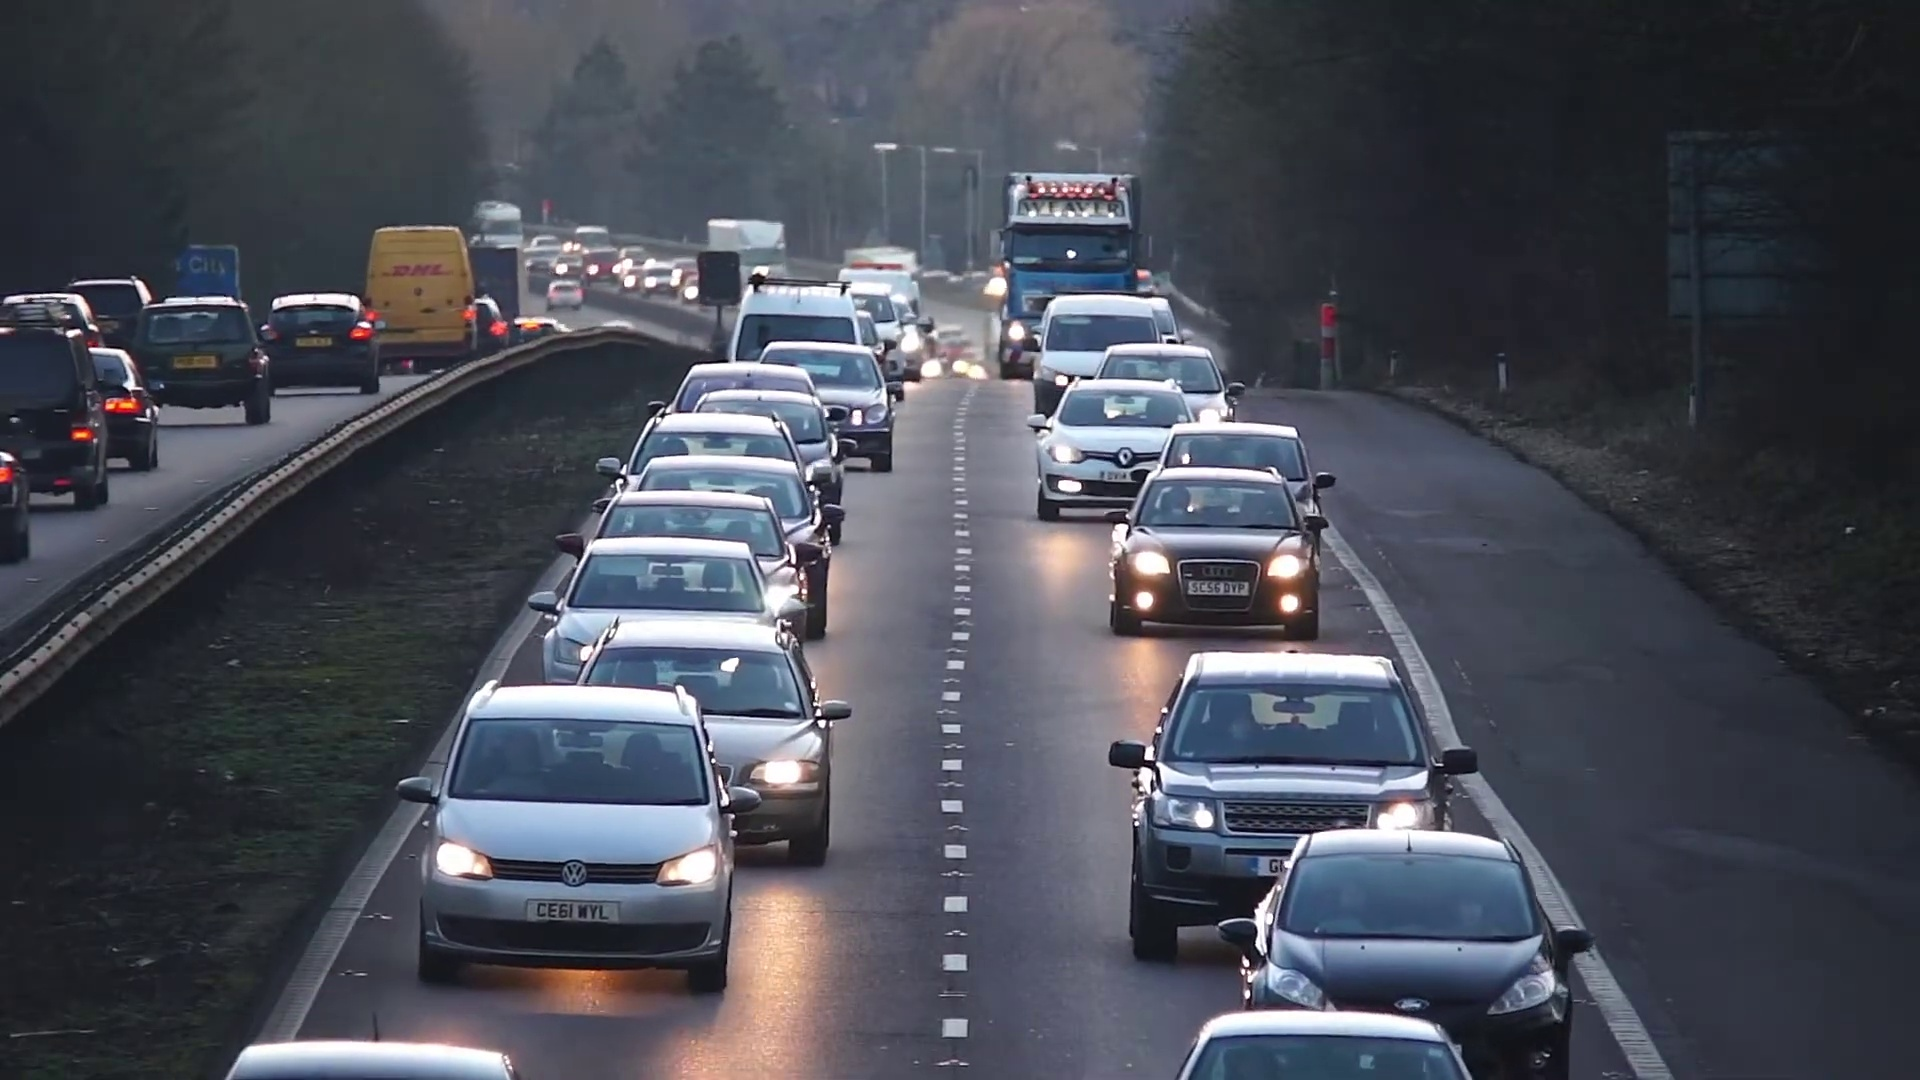license_plate: (524, 894, 617, 926)
